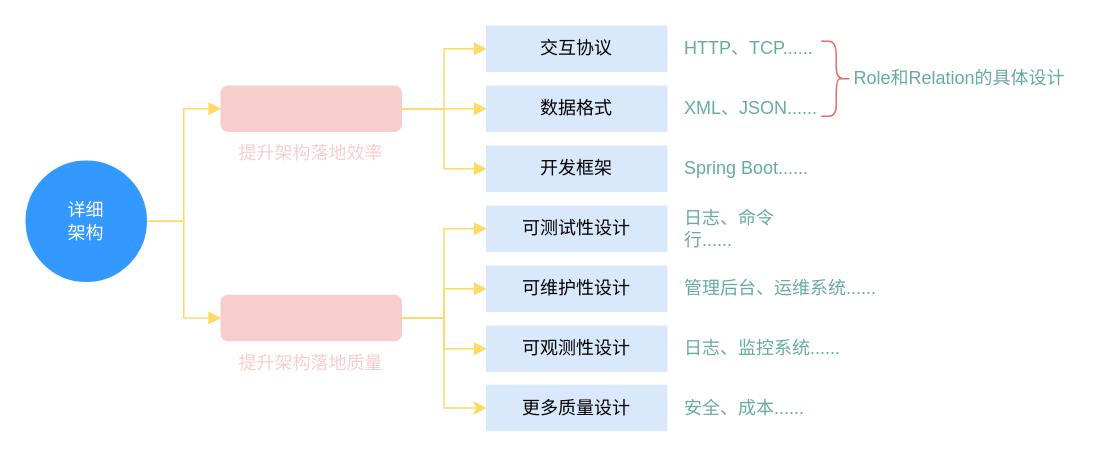
Image size: 1103x458. Some labels were removed from this diagram. Here are the shapes that lost their labels. From the top down, the box of each, then its label:
(220, 85, 401, 131): 架构规范
(220, 294, 401, 340): 架构质量
